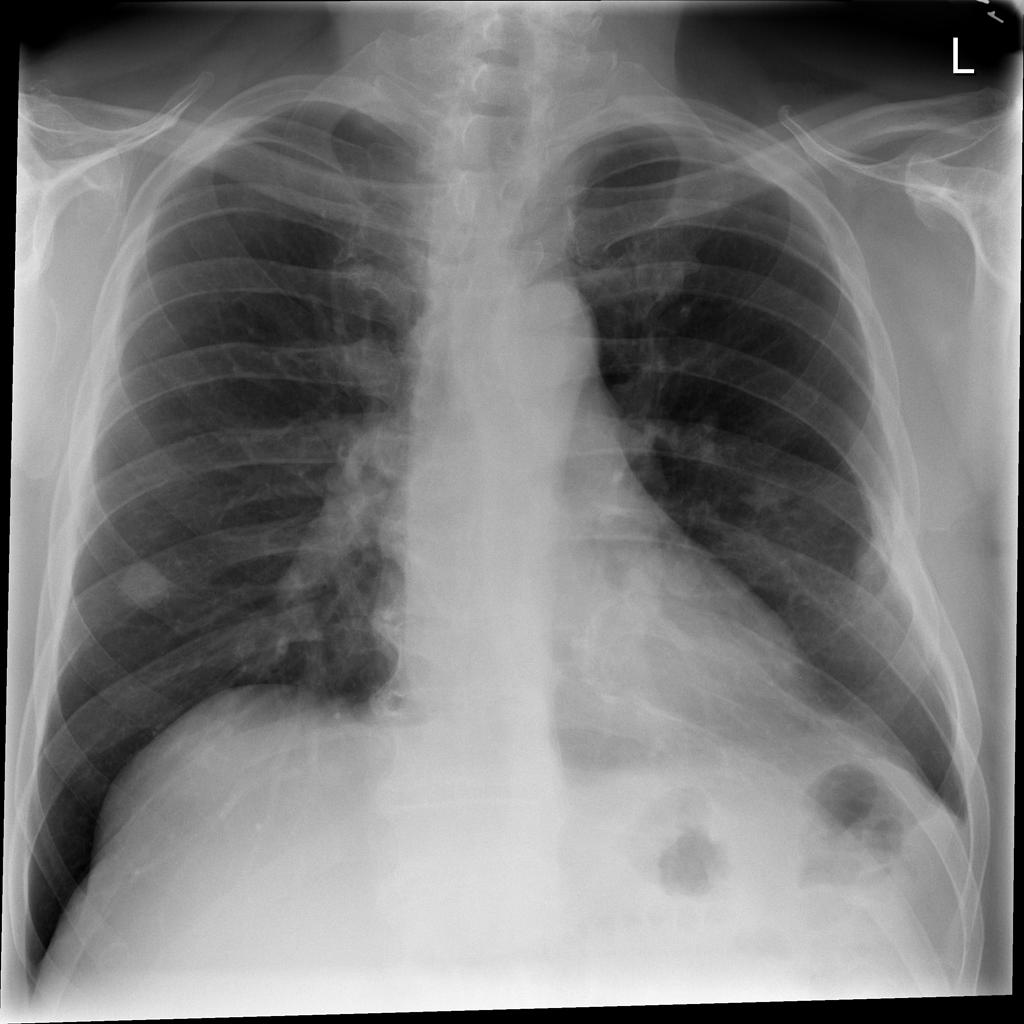nodule: (103, 551, 182, 621)
